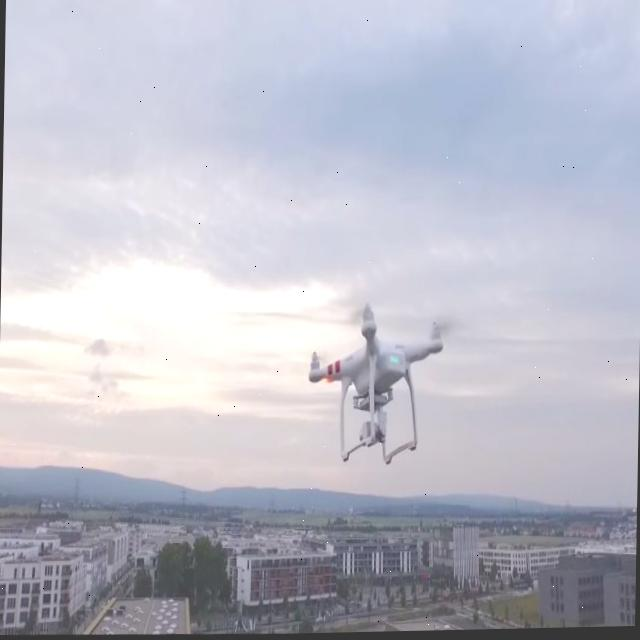drone: (304, 300, 446, 472)
